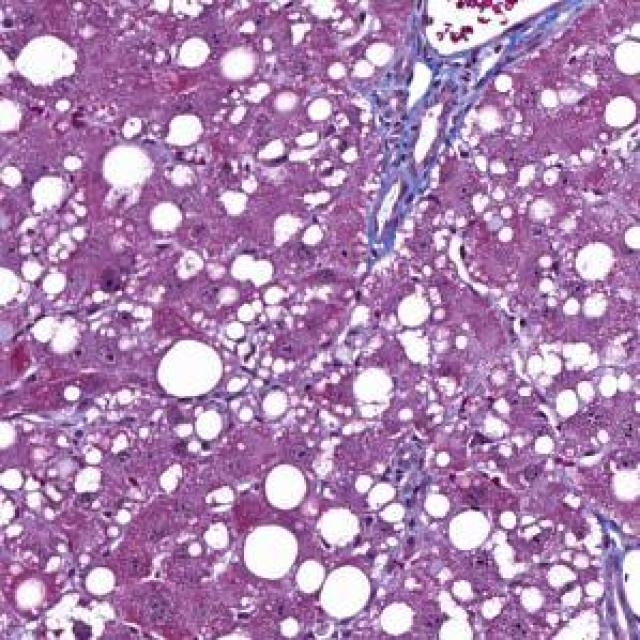fibrosis: (356, 41, 508, 182)
